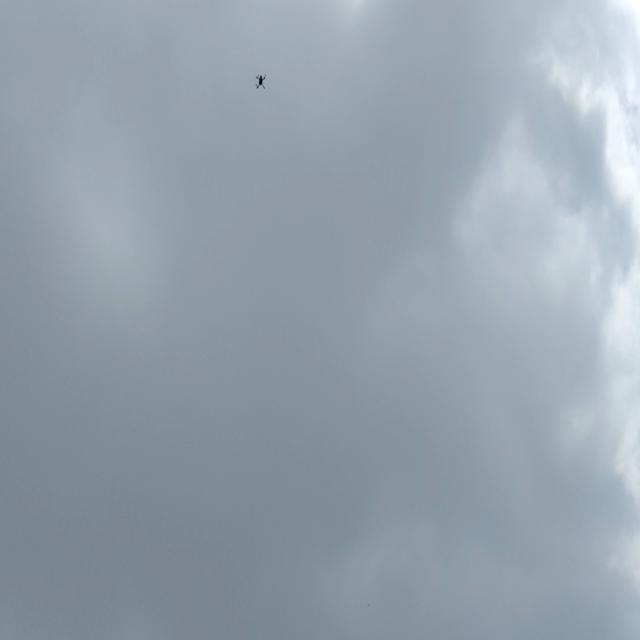drone: (252, 71, 269, 95)
